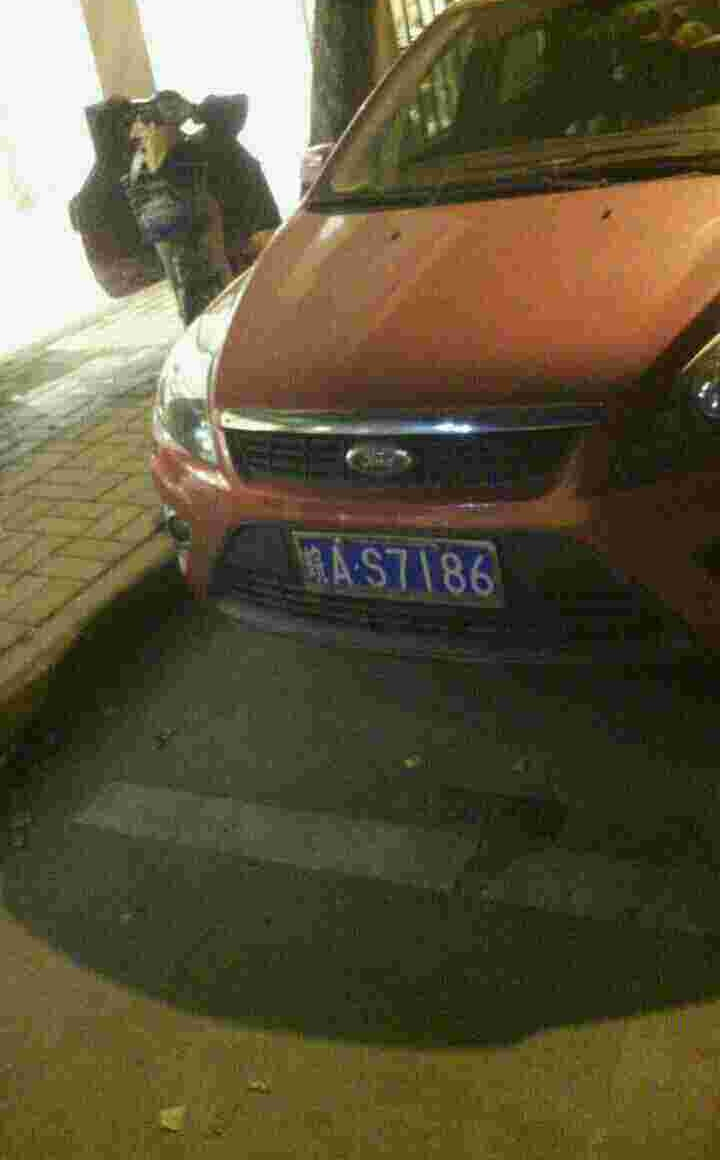license_plate: (299, 530, 497, 601)
